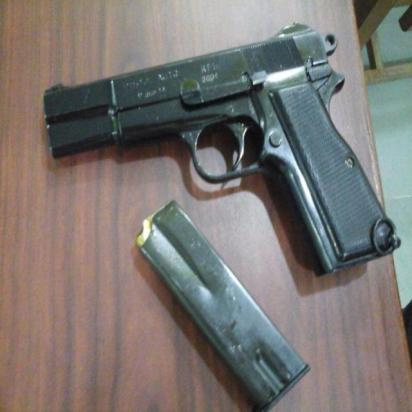Gun: (41, 18, 408, 277)
